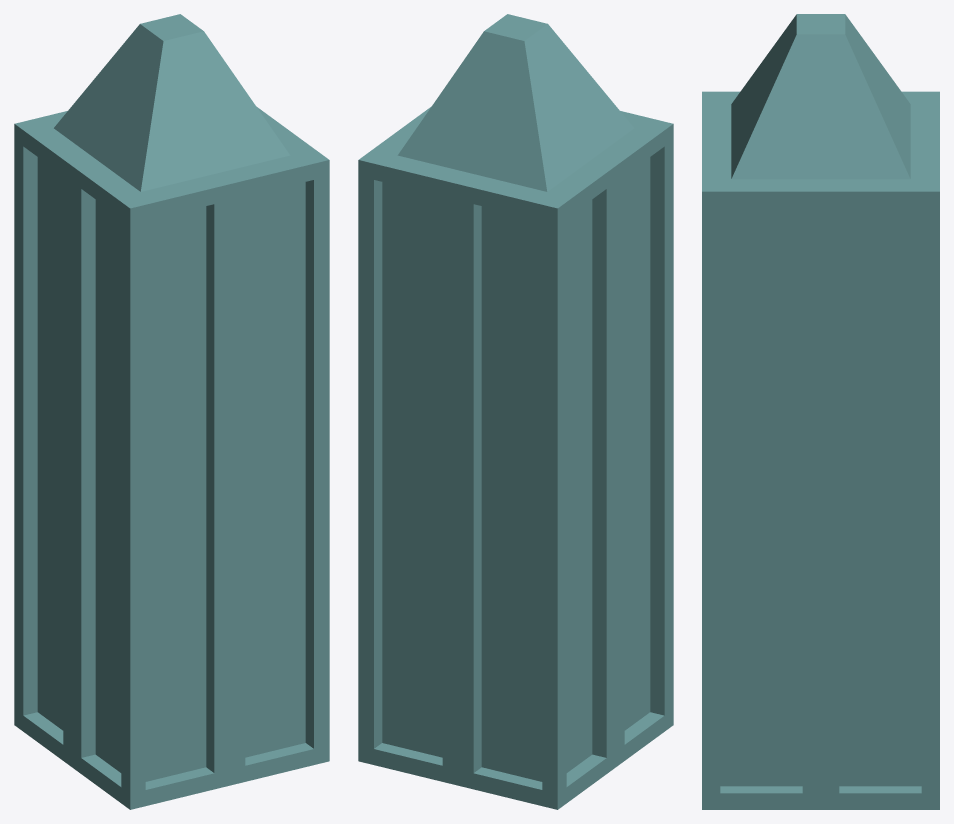
The model's file is P_EdificioRichZone.fbx.
3 renders of one model, left to right at view 1: azimuth 30°, elevation 25°; view 2: azimuth 150°, elevation 25°; view 3: azimuth 270°, elevation 25°, orthographic. The views are drawn at different scales.
Parts seen in each view (by area): view 1: pCube3; view 2: pCube3; view 3: pCube3.
Boxes of the visible parts, x1,y1,x2,y2 form: pCube3: [14, 14, 329, 809]; pCube3: [358, 14, 673, 809]; pCube3: [702, 14, 939, 809].
Bounding box in the file's own units: 721 × 2475 × 725.
